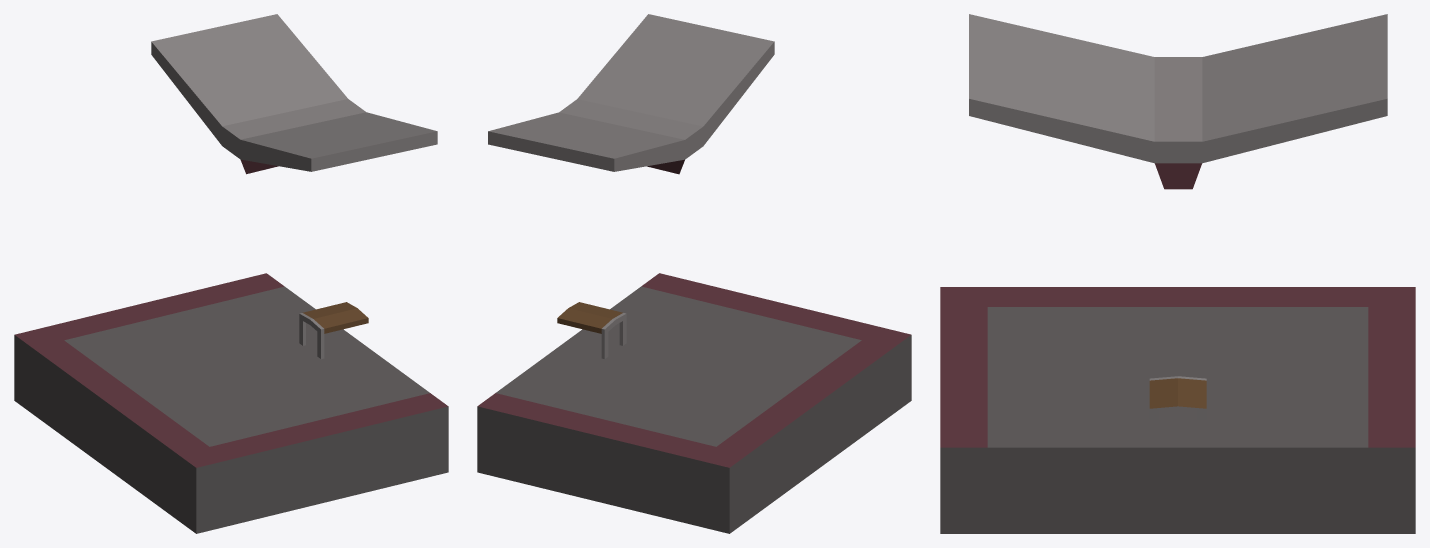
File: buildings-train-station-platform-end-small.glb
3 views of the same model, side by side, from view 1: azimuth 30°, elevation 25°; view 2: azimuth 150°, elevation 25°; view 3: azimuth 270°, elevation 25° (orthographic). The views are drawn at different scales.
Visible parts, largest first — view 1: train-station-platform-end-small; view 2: train-station-platform-end-small; view 3: train-station-platform-end-small.
Boxes of the visible parts, x1,y1,x2,y2 form: train-station-platform-end-small: [14, 14, 448, 533]; train-station-platform-end-small: [477, 14, 911, 533]; train-station-platform-end-small: [940, 14, 1415, 533].
Bounding box in the file's own units: 4 × 5.1 × 5.
